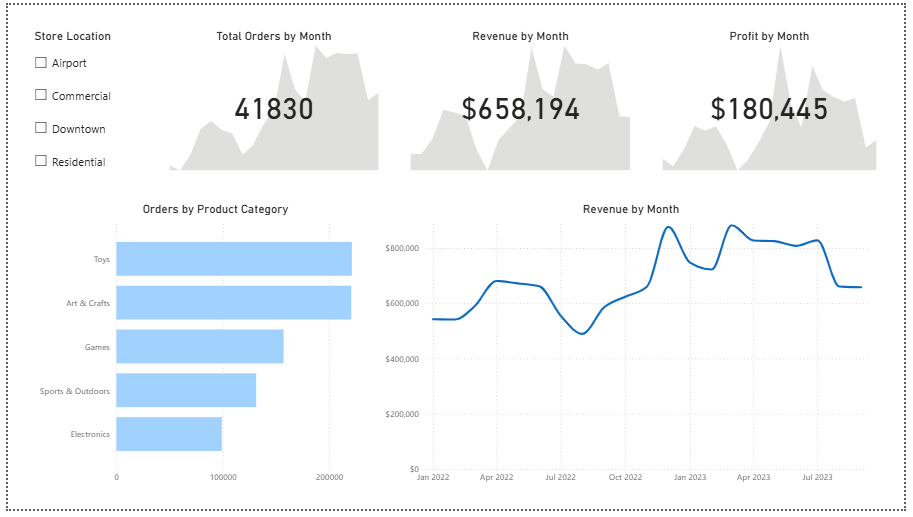

Layout of this report page (visuals, bound fields, positions):
{"tool":"powerbi","page":{"name":"Page 1","canvas":[1280,720],"ordinal":0},"visuals":[{"type":"kpi","title":"Total Orders by Month","fields":{"Indicator":["sales.Total Orders"],"TrendLine":["calendar.Start of Month"]},"box":[225.7,34.3,308.6,207.1],"z":0},{"type":"kpi","title":"Profit by Month","fields":{"Indicator":["sales.Profit (M)"],"TrendLine":["calendar.Start of Month"]},"box":[930,34.3,315.7,207.1],"z":1000},{"type":"kpi","title":"Revenue by Month","fields":{"Indicator":["sales.Revenue (M)"],"TrendLine":["calendar.Start of Month"]},"box":[570,34.3,324.3,207.1],"z":2000},{"type":"listSlicer","fields":{"Values":["stores.Store_Location"]},"box":[32.9,34.3,168.6,408.6],"z":3000},{"type":"clusteredBarChart","title":"Orders by Product Category","fields":{"Category":["products.Product_Category"],"Y":["sales.Total Orders"]},"box":[32.9,281.4,527.1,411.4],"z":4000},{"type":"lineChart","title":"Revenue by Month","fields":{"Category":["calendar.Start of Month Hierarchy.Start of Month","calendar.Start of Month Hierarchy.Start of Week","calendar.Start of Month Hierarchy.Date"],"Y":["sales.Revenue (M)"]},"box":[534.3,281.4,711.4,411.4],"z":5000}]}

Visuals, with their boxes in screenshot pixels (x1, y1, x2, y2), scaled from the page's 1280x720 canvas onto the 913x517 screenshot:
"Total Orders by Month" kpi: left=161, top=25, right=381, bottom=173
"Profit by Month" kpi: left=663, top=25, right=889, bottom=173
"Revenue by Month" kpi: left=407, top=25, right=638, bottom=173
listSlicer - stores.Store_Location: left=23, top=25, right=144, bottom=318
"Orders by Product Category" clusteredBarChart: left=23, top=202, right=399, bottom=497
"Revenue by Month" lineChart: left=381, top=202, right=889, bottom=497
